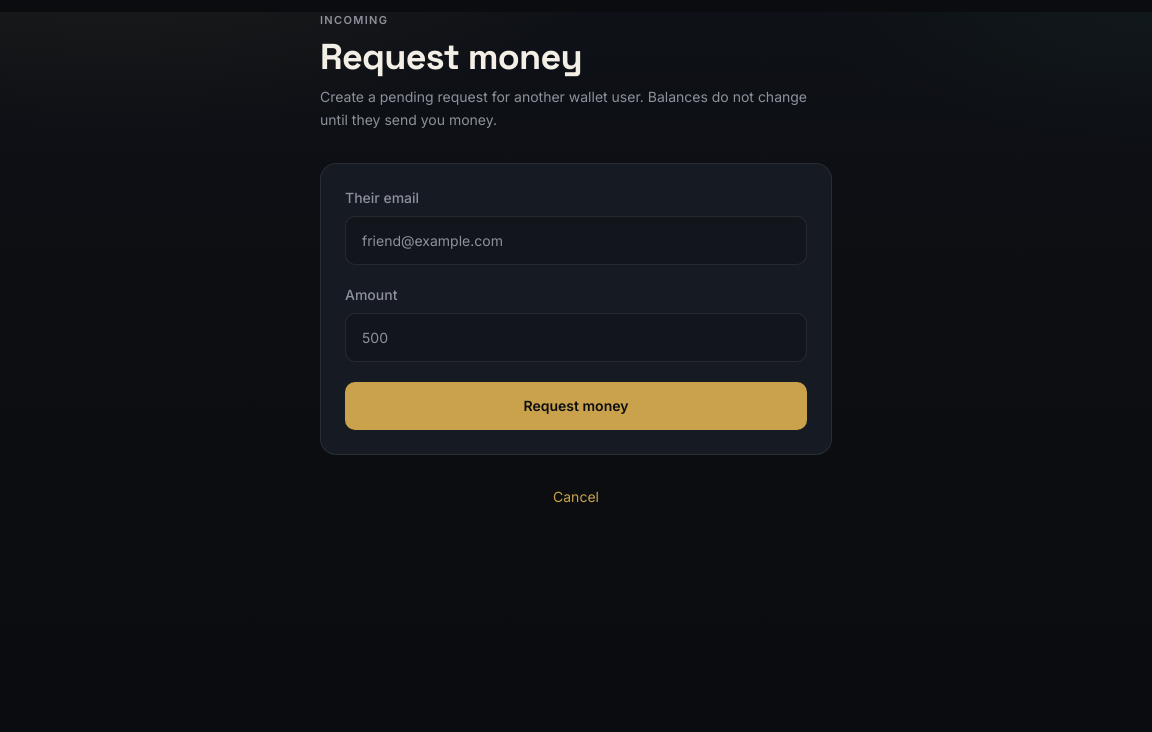
Test: Request money flow › blocks submit when email is invalid
The image size is (1152, 732).
Type "not-an-email" into the field labelled "Their email".
click(576, 241); type("not-an-email")  # box [345,216,807,265]
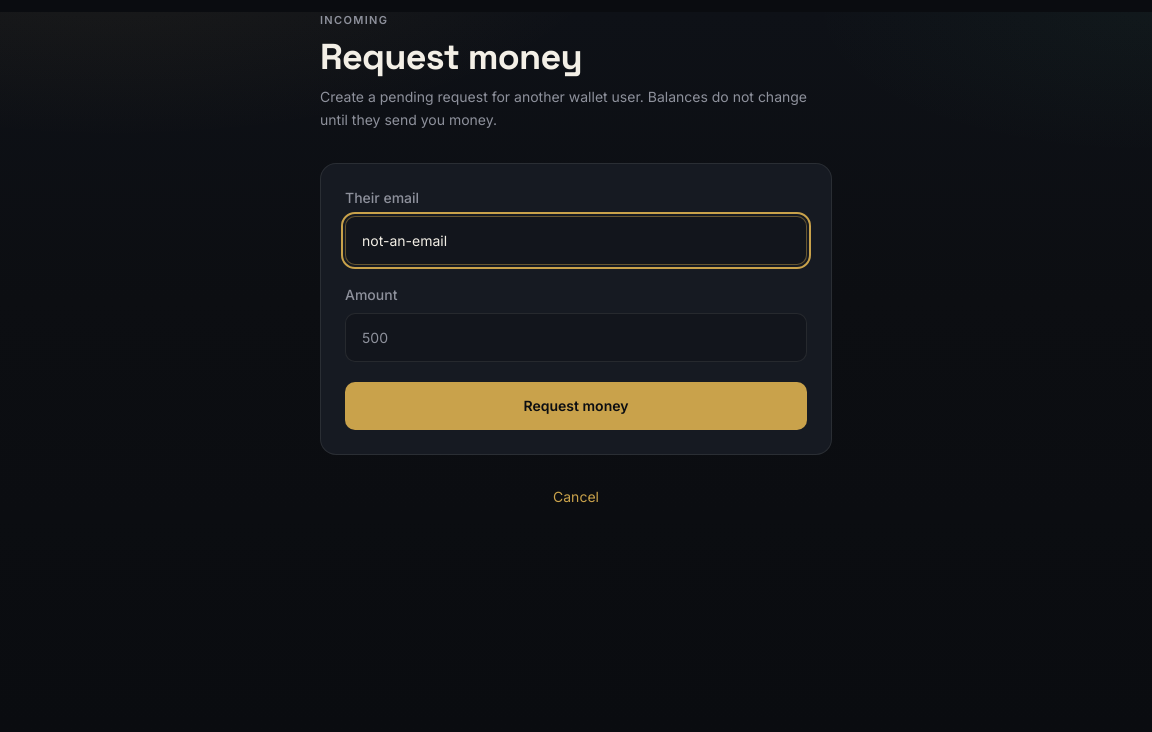
Type "100" into the number field labelled "Amount".
click(576, 338); type("100")  # box [345,313,807,362]
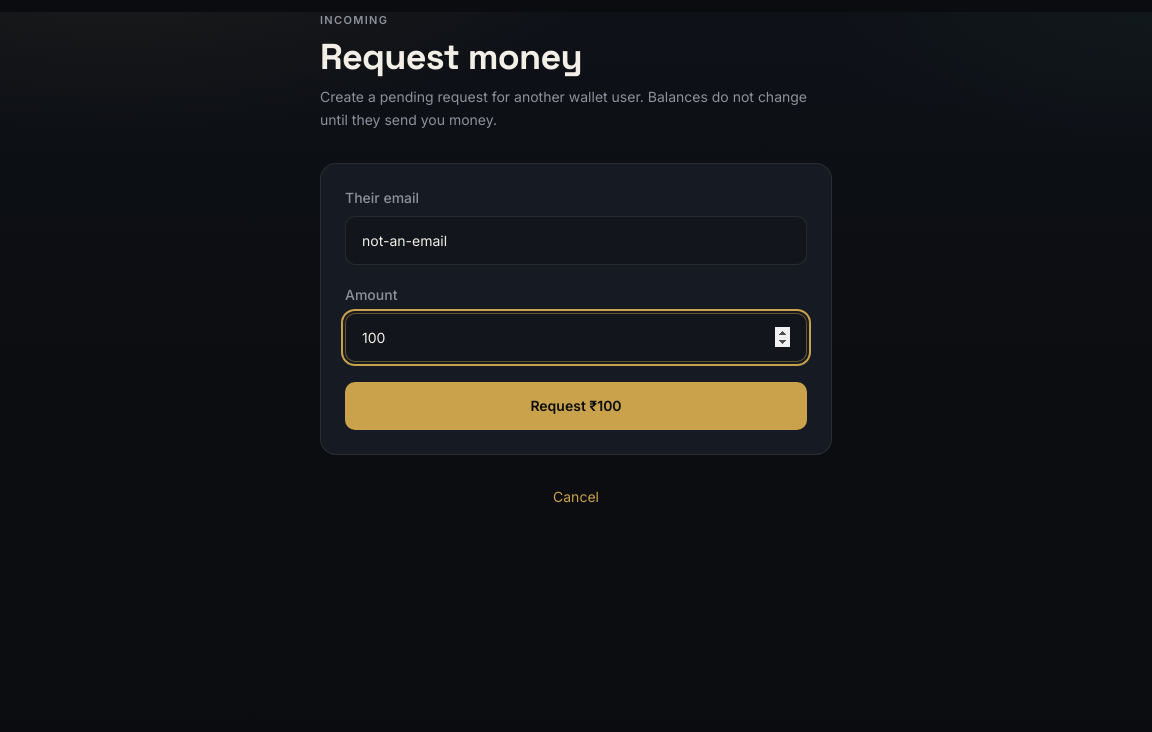
Click the button "Request ₹100".
click(576, 406)  # box [345,382,807,430]
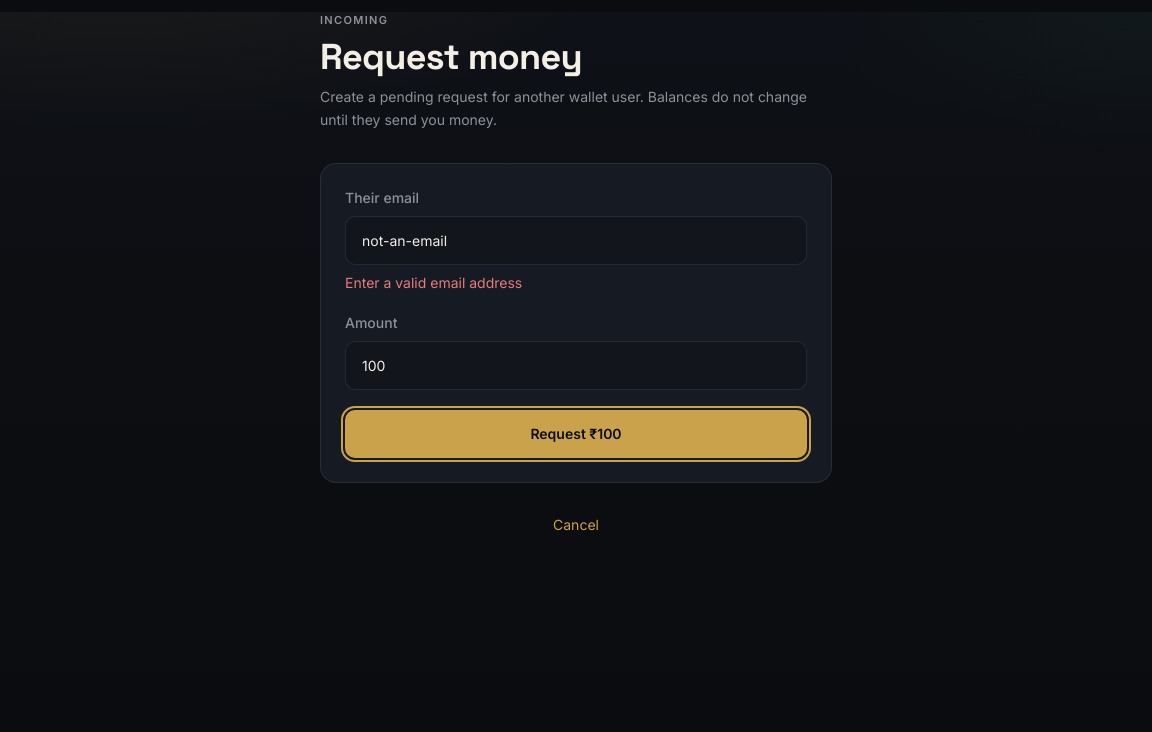
Expected: the text "Enter a valid email address" is shown, [345,274,522,291]
